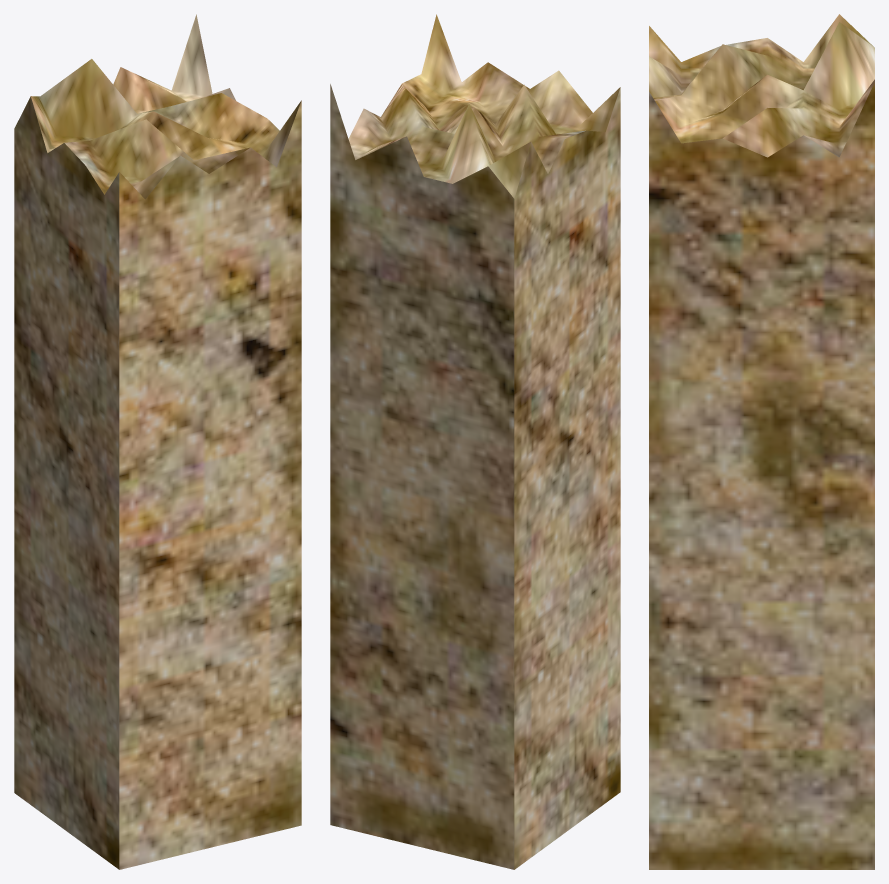
File: BrokenObelisk.fbx
3 views of the same model, side by side, from view 1: azimuth 30°, elevation 25°; view 2: azimuth 150°, elevation 25°; view 3: azimuth 270°, elevation 25° (orthographic). The views are drawn at different scales.
Visible parts, largest first — view 1: pCube1; view 2: pCube1; view 3: pCube1.
Boxes of the visible parts, x1=… form: pCube1: x1=14, y1=14, x2=301, y2=869; pCube1: x1=330, y1=14, x2=620, y2=869; pCube1: x1=649, y1=14, x2=874, y2=869.
Size of the model in its own units: 1 by 3.85 by 1.
